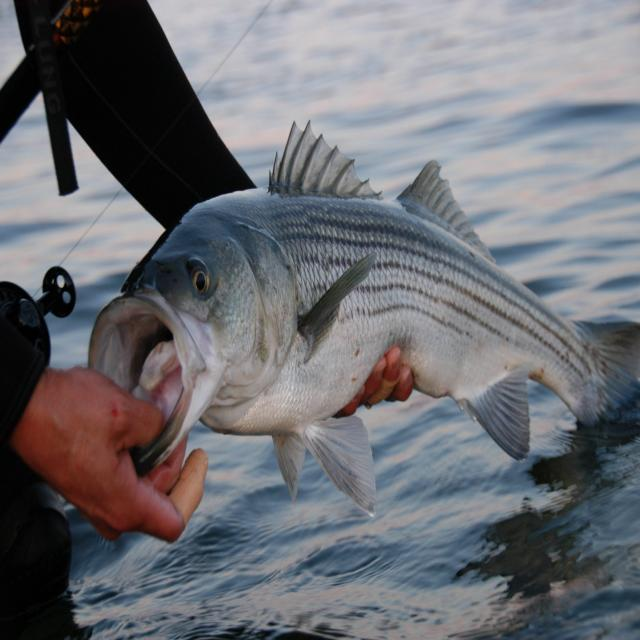Bass - Striped: (89, 123, 640, 514)
